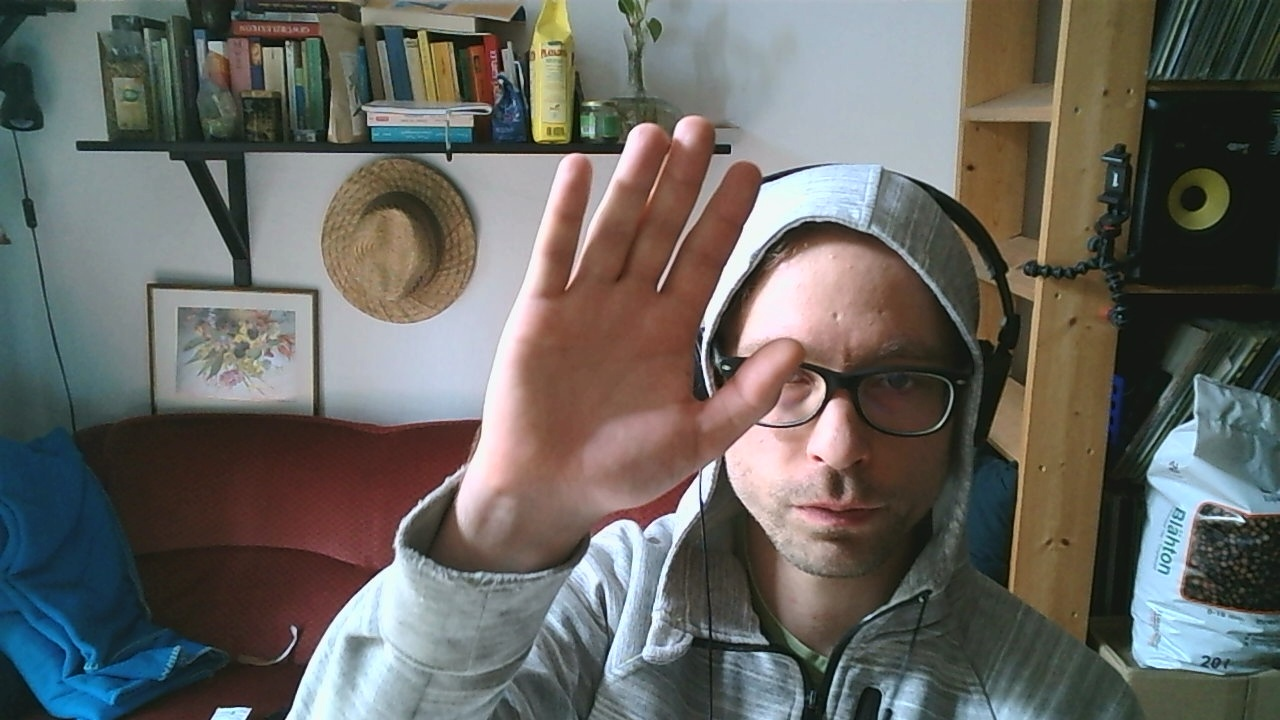hello: (481, 112, 806, 512)
